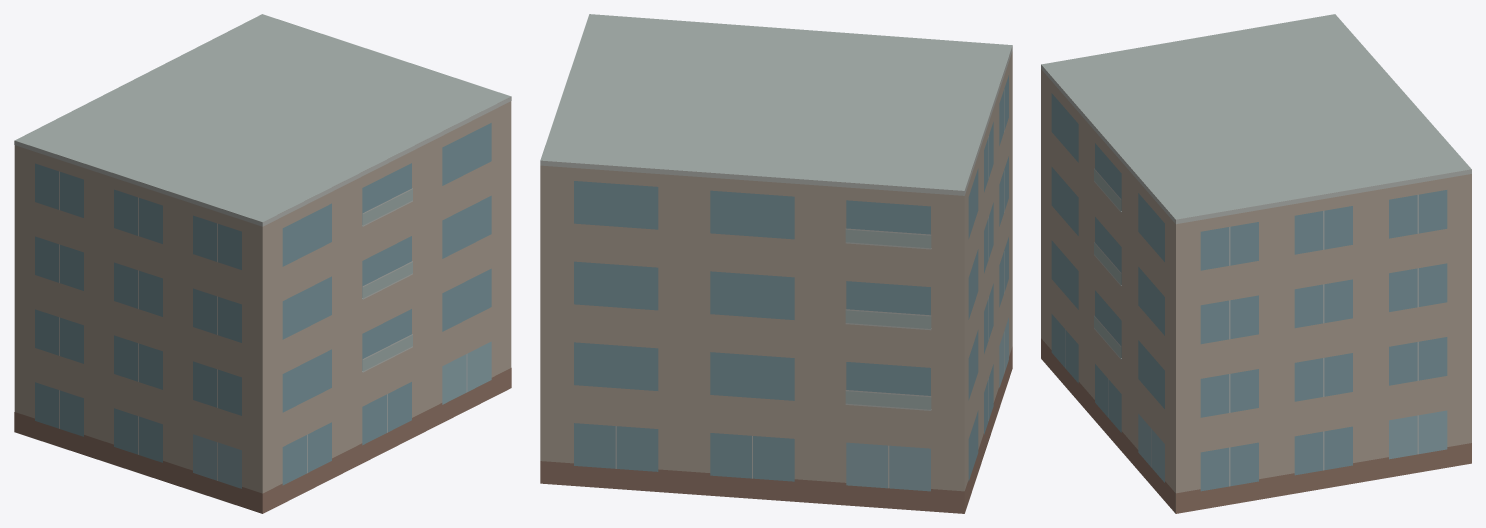
The model's file is survey-upis-32964203.glb.
3 renders of one model, left to right at view 1: azimuth 30°, elevation 25°; view 2: azimuth 150°, elevation 25°; view 3: azimuth 270°, elevation 25°, orthographic. The views are drawn at different scales.
Visible parts, largest first — view 1: survey-upis-32964203.tmp; view 2: survey-upis-32964203.tmp; view 3: survey-upis-32964203.tmp.
Part boxes in pixels (x1=…): survey-upis-32964203.tmp: x1=14, y1=14, x2=511, y2=513; survey-upis-32964203.tmp: x1=540, y1=14, x2=1012, y2=513; survey-upis-32964203.tmp: x1=1041, y1=14, x2=1471, y2=513.
Size of the model in its own units: 23.7 by 15.8 by 20.97.
